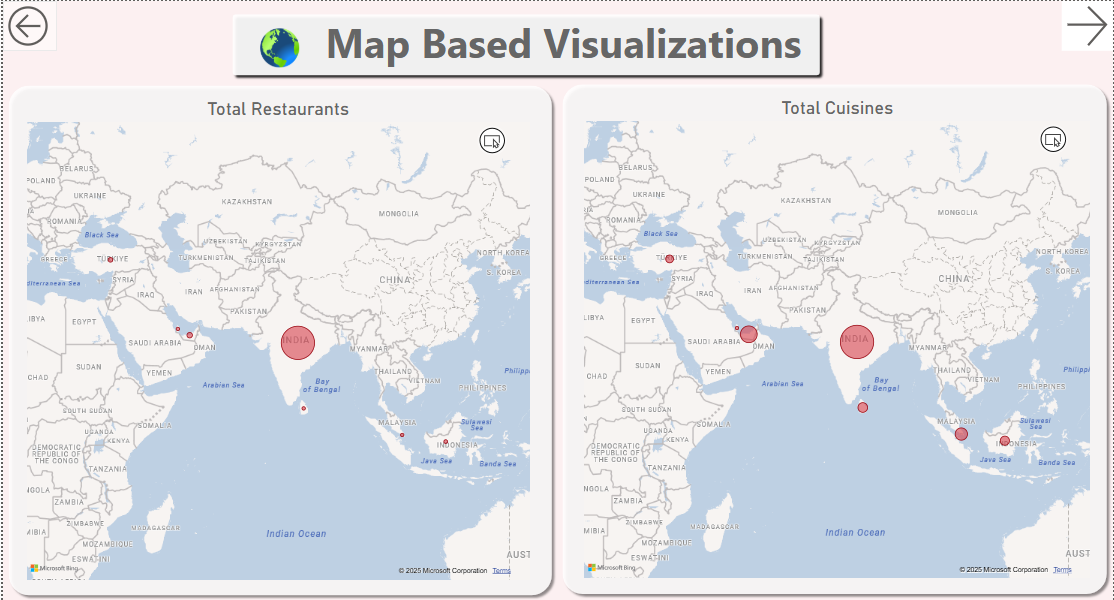

The page's visual inventory and layout, read from the dashboard file:
{"tool":"powerbi","page":{"name":"Maps","canvas":[1480,800],"ordinal":3},"visuals":[{"type":"shape","box":[739,103.6,741,694.9],"z":0},{"type":"shape","box":[298,10,798.3,96.7],"z":1000,"group":"g1"},{"type":"shape","box":[0,105.7,739.4,694.9],"z":1000},{"type":"map","title":"Total Restaurants","fields":{"Size":["CountNonNull(cousins count for restraunts.Restaurant Name)"],"Category":["cousins count for restraunts.Continent","cousins count for restraunts.Country name","allContinents.City"]},"box":[27.4,130.3,680.7,645.8],"z":2000},{"type":"map","title":"Total Cuisines","fields":{"Category":["cousins count for restraunts.Continent","cousins count for restraunts.Country name","allContinents.City"],"Size":["Count(cousins count2.Value)"]},"box":[770,127.9,685,646.7],"z":3000},{"type":"group","id":"g1","title":"Group 7","box":[298,10,798.3,96.7],"z":4000},{"type":"image","box":[333,31.7,71.7,61.7],"z":5000},{"type":"actionButton","box":[0,0,71.7,66.7],"z":5001},{"type":"actionButton","box":[1411.7,0,68.3,66.7],"z":5002},{"type":"textbox","box":[424.7,13,668.5,86.6],"z":11000,"group":"g2"},{"type":"group","id":"g2","title":"Group 4","box":[424.7,13,668.5,86.6],"z":12001,"group":"g3"},{"type":"group","id":"g3","title":"Group 6","box":[424.7,13,668.5,86.6],"z":12002,"group":"g1"}]}

Visuals, with their boxes in screenshot pixels (x1, y1, x2, y2), scaled from the page's 1480x800 canvas onto the 1114x600 screenshot:
shape: [left=556, top=78, right=1113, bottom=599]
shape: [left=224, top=8, right=825, bottom=80]
shape: [left=0, top=79, right=557, bottom=599]
"Total Restaurants" map: [left=21, top=98, right=533, bottom=582]
"Total Cuisines" map: [left=580, top=96, right=1095, bottom=581]
"Group 7" group: [left=224, top=8, right=825, bottom=80]
image: [left=251, top=24, right=305, bottom=70]
actionButton: [left=0, top=0, right=54, bottom=50]
actionButton: [left=1063, top=0, right=1113, bottom=50]
textbox: [left=320, top=10, right=823, bottom=75]
"Group 4" group: [left=320, top=10, right=823, bottom=75]
"Group 6" group: [left=320, top=10, right=823, bottom=75]
